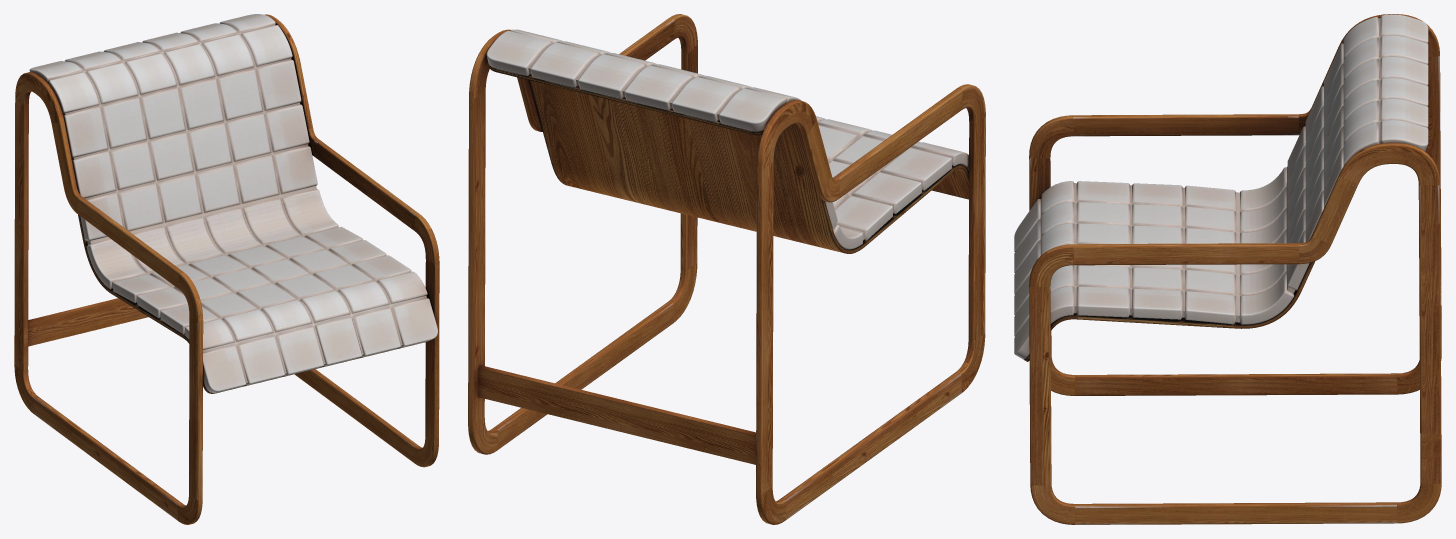
File: chair.glb
The picture shows the model from 3 angles, left to right: view 1: azimuth 30°, elevation 25°; view 2: azimuth 150°, elevation 25°; view 3: azimuth 270°, elevation 25°; orthographic projection. The views are drawn at different scales.
Parts seen in each view (by area): view 1: Object001_Material #5_0_4, 01_Wood_Material #3_0_0, 02_Base_Material #2_0_2; view 2: 01_Wood_Material #3_0_0, 02_Base_Material #2_0_2, Object001_Material #5_0_4; view 3: Object001_Material #5_0_4, 01_Wood_Material #3_0_0, 02_Base_Material #2_0_2.
Part boxes in pixels (bbox=[...]): Object001_Material #5_0_4: bbox=[29, 14, 437, 392]; 01_Wood_Material #3_0_0: bbox=[14, 14, 439, 524]; 02_Base_Material #2_0_2: bbox=[78, 215, 427, 393]; 01_Wood_Material #3_0_0: bbox=[468, 14, 985, 524]; 02_Base_Material #2_0_2: bbox=[488, 64, 968, 253]; Object001_Material #5_0_4: bbox=[486, 29, 968, 249]; Object001_Material #5_0_4: bbox=[1014, 14, 1428, 359]; 01_Wood_Material #3_0_0: bbox=[1029, 14, 1441, 524]; 02_Base_Material #2_0_2: bbox=[1024, 261, 1314, 361].
Size of the model in its own units: 0.5891 by 0.7982 by 0.8073.
3 materials, 3 textured.
